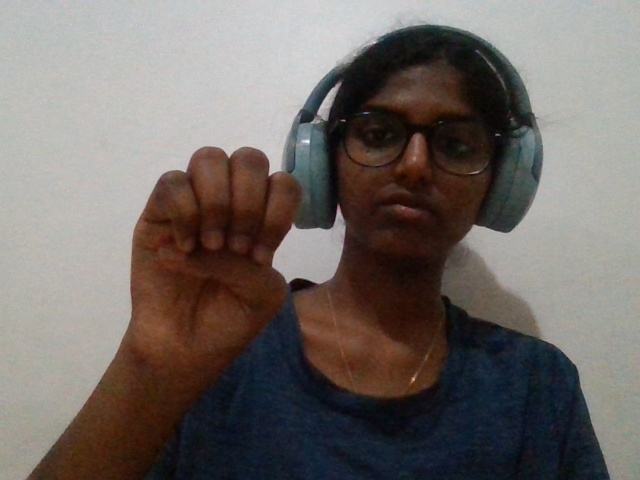E: (95, 102, 321, 428)
